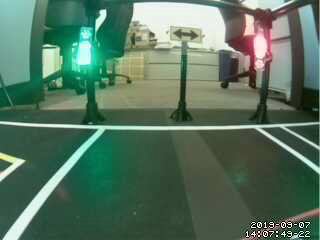Left_Right_sign: (169, 26, 201, 44)
Traffic_light_green: (79, 28, 92, 66)
Traffic_light_red: (255, 36, 268, 61)
